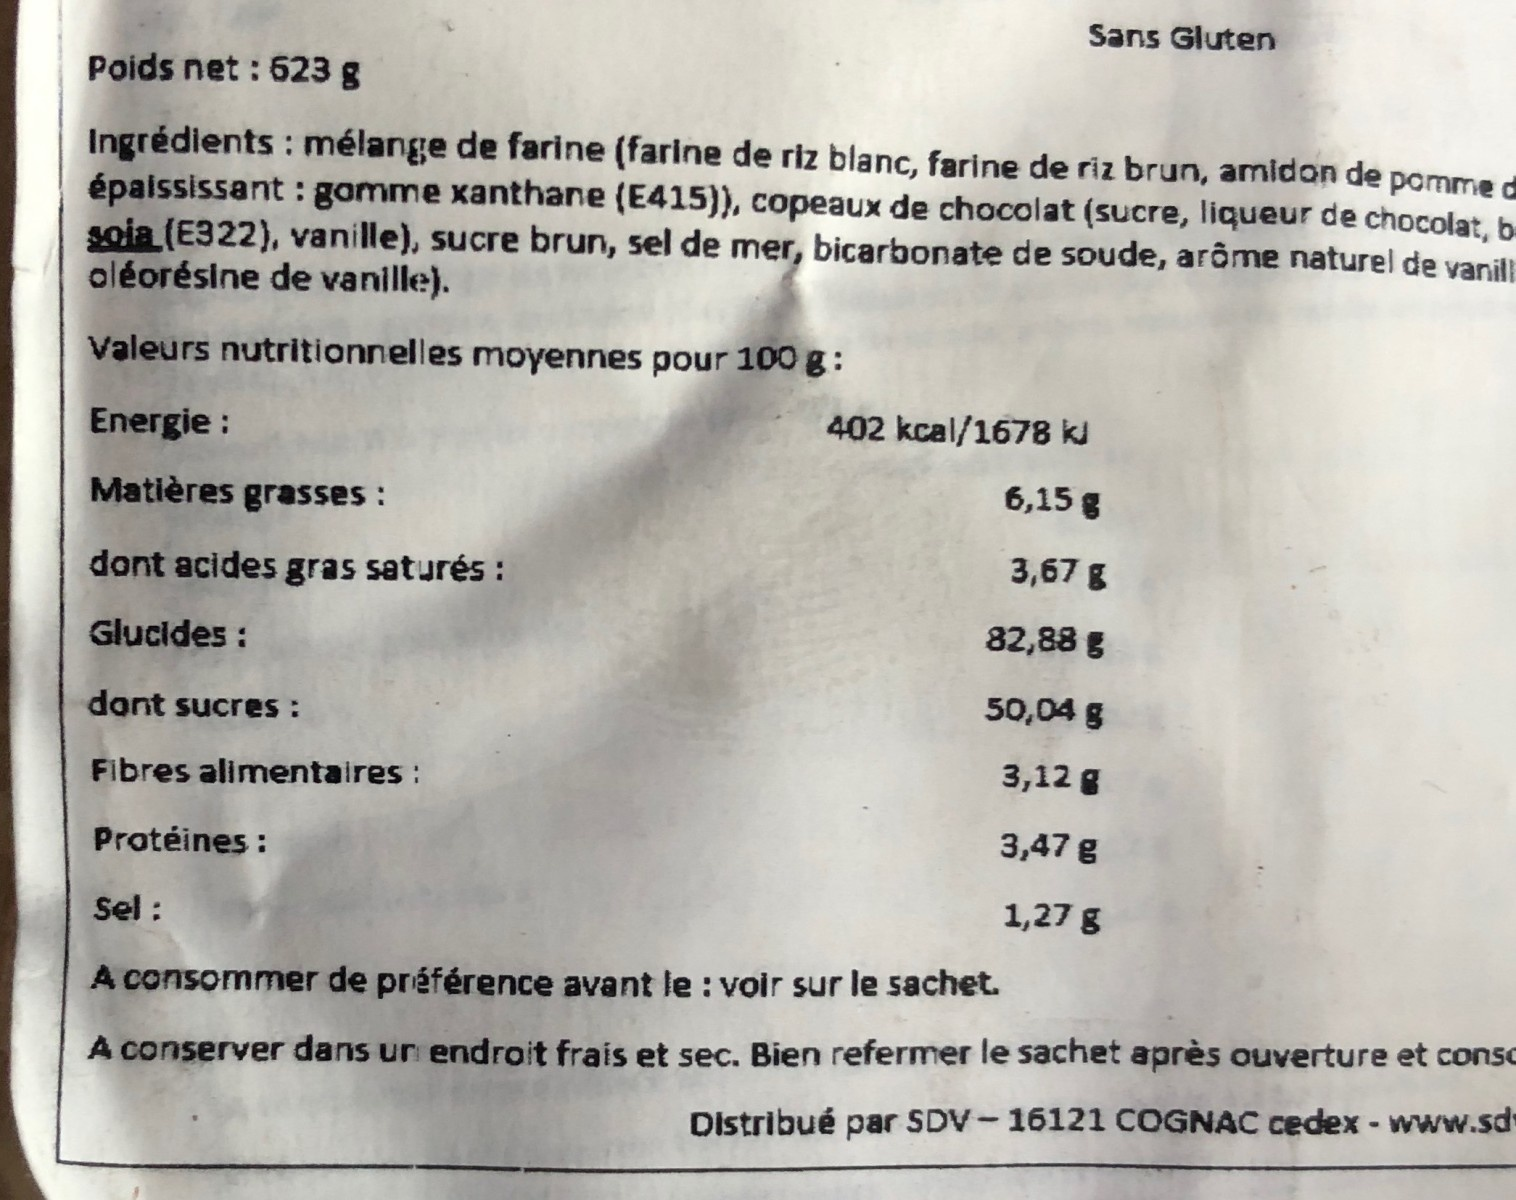column: (94, 404, 506, 928), (824, 412, 1103, 934)
table: (86, 330, 1111, 948)
